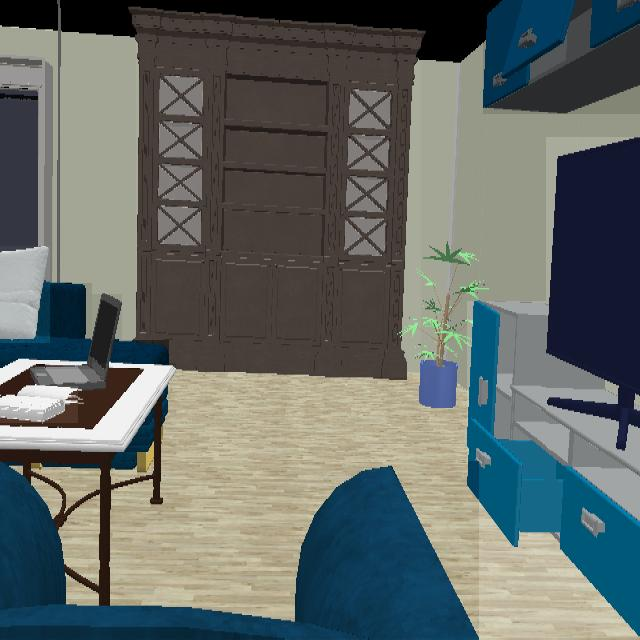book: (0, 387, 78, 423)
bookshelf: (136, 15, 421, 377)
cabinet: (467, 301, 640, 639), (483, 0, 640, 114)
laptop: (29, 295, 122, 390)
monitor: (546, 137, 640, 451)
pillow: (0, 247, 50, 343)
sofa: (0, 463, 478, 639), (0, 283, 92, 369), (111, 340, 169, 364)
table: (0, 363, 176, 553), (0, 359, 35, 397)
